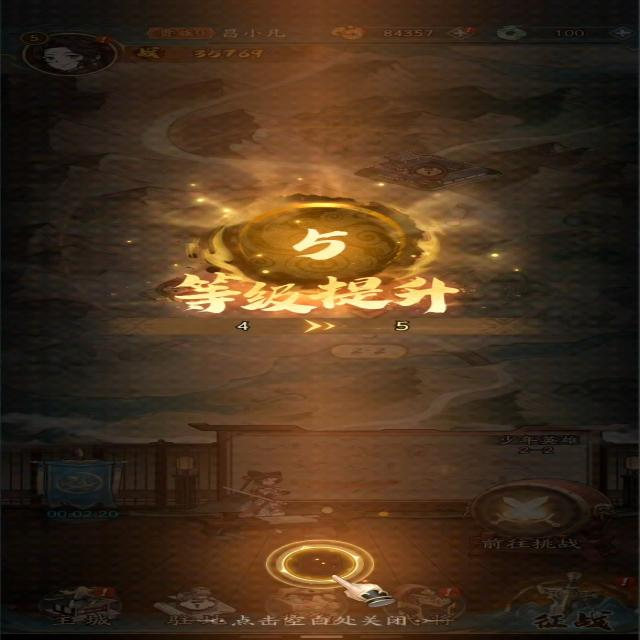hint-guide: (266, 537, 394, 609)
